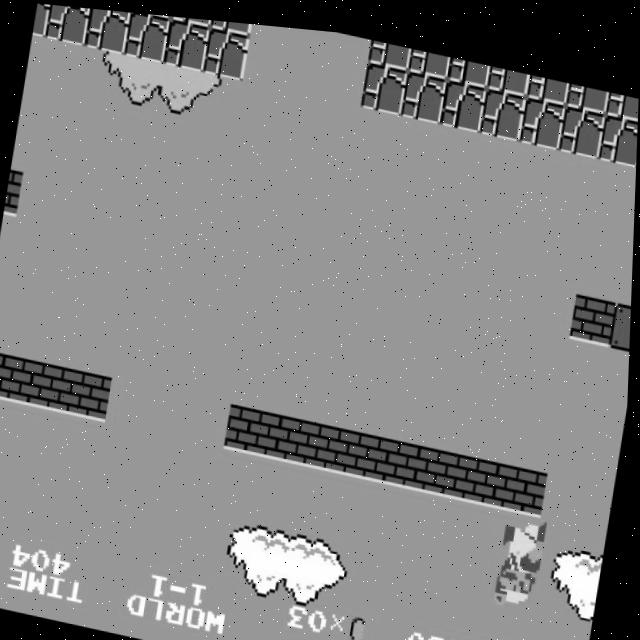1- brick_block: (570, 281, 618, 335), (305, 414, 353, 468), (384, 430, 432, 483), (345, 422, 393, 475), (68, 367, 116, 420), (28, 359, 76, 412), (503, 453, 550, 507), (266, 406, 313, 460), (226, 398, 273, 452), (464, 446, 511, 499), (424, 438, 471, 491), (0, 351, 36, 405), (4, 168, 25, 217)
17- undestructible_block: (479, 77, 527, 132), (439, 69, 487, 124), (400, 61, 448, 116), (360, 53, 408, 108), (558, 93, 606, 147), (202, 22, 250, 76), (162, 14, 210, 68), (519, 85, 566, 140), (123, 9, 170, 61), (84, 6, 131, 53), (598, 101, 638, 154), (44, 3, 91, 45), (486, 55, 530, 87), (447, 47, 491, 79), (407, 39, 451, 71), (526, 63, 569, 95), (565, 71, 609, 102), (368, 32, 411, 63), (604, 79, 639, 109), (32, 3, 52, 37), (209, 16, 252, 31), (170, 13, 213, 23)
3- empty_block: (610, 289, 633, 339)
4- fire_mario: (496, 502, 553, 605)
